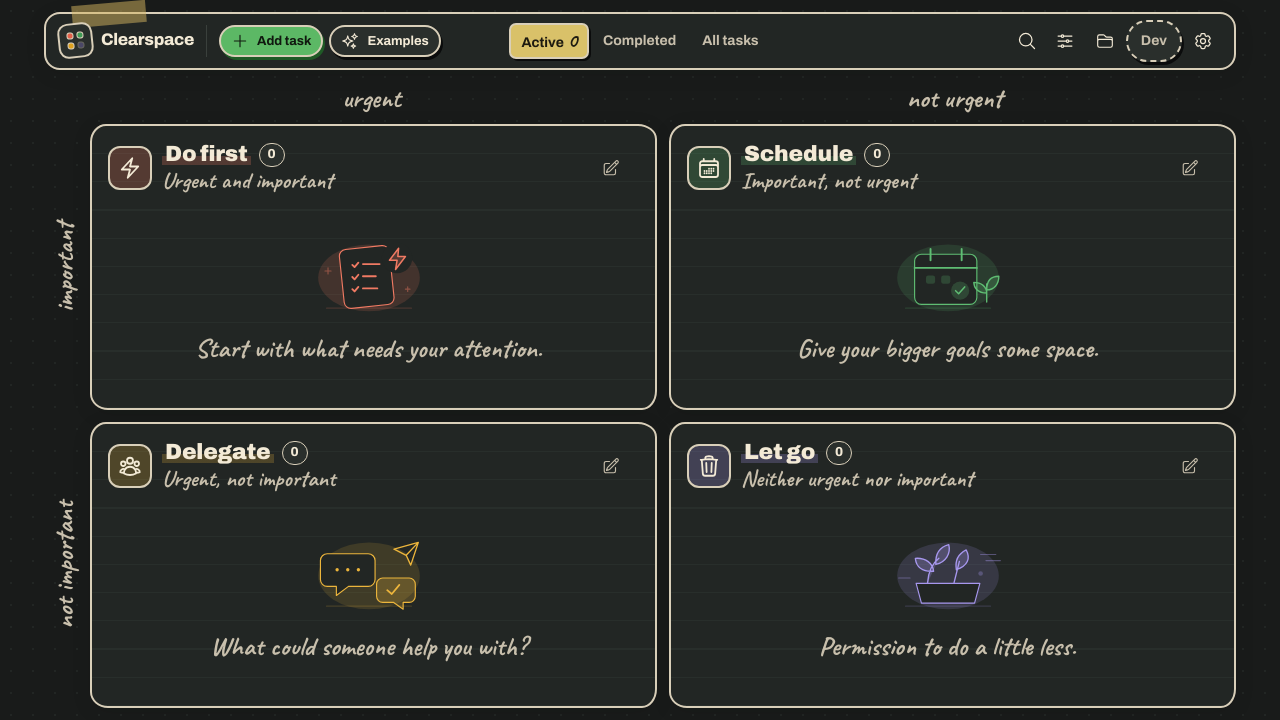
Test: keeps existing labels and dark appearance, and does not expose editable branding
This screenshot has width=1280, height=720.
Click the button named "Settings". click: [1203, 41]
box: [1184,22,1222,60]
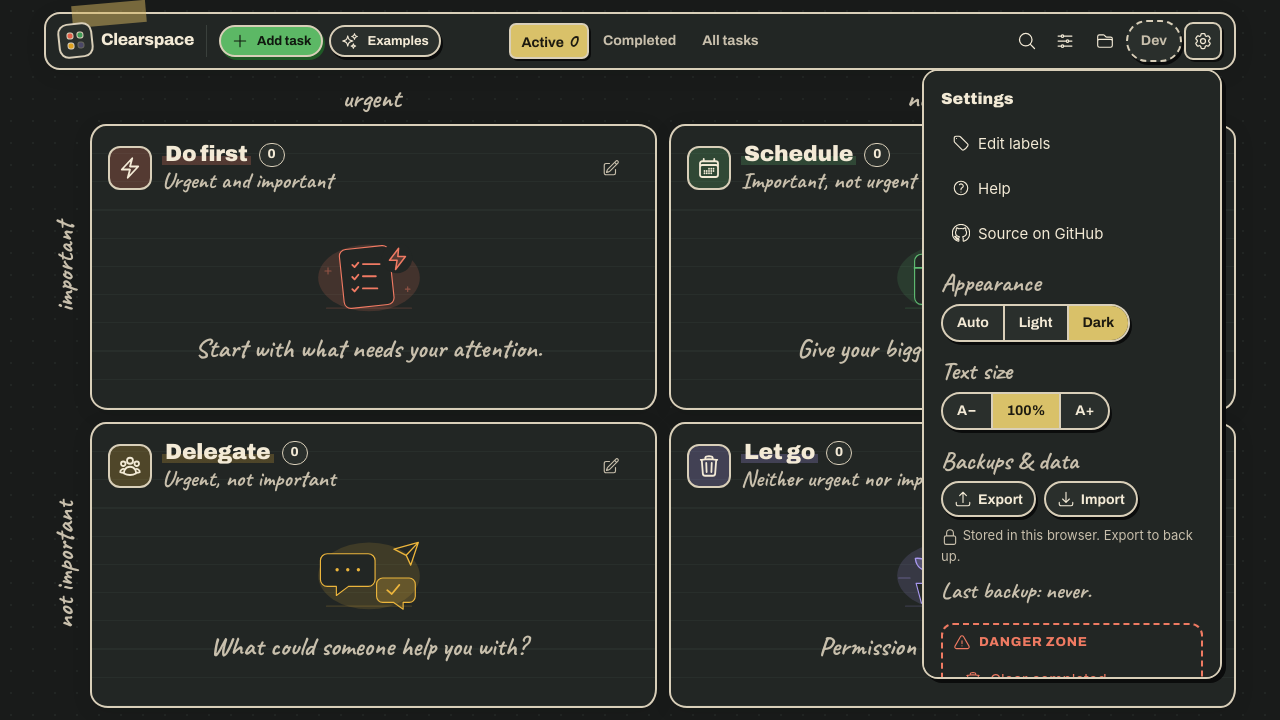
Click the button "Edit labels". click: [1014, 143]
box: [941,122,1203,164]
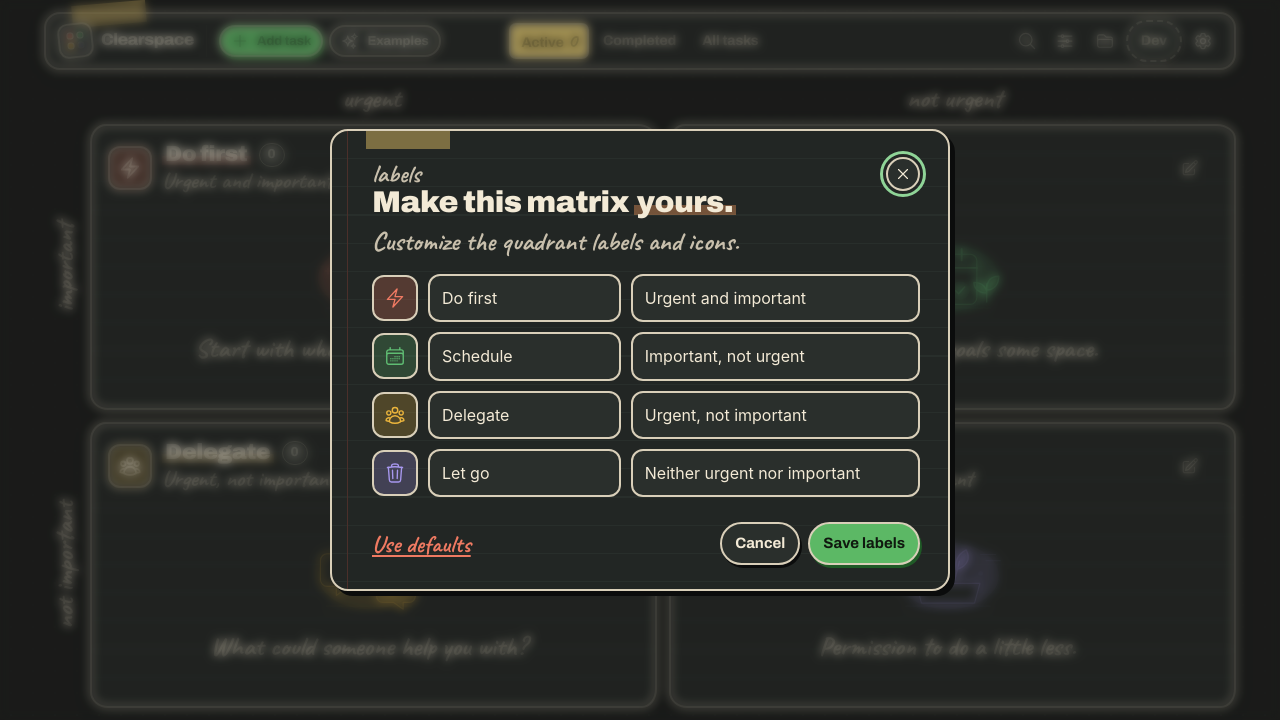
Expected: the number of fields named "Title" is 4, [428,274,621,322]; [428,332,621,380]; [428,390,621,439]; [428,449,621,497]
